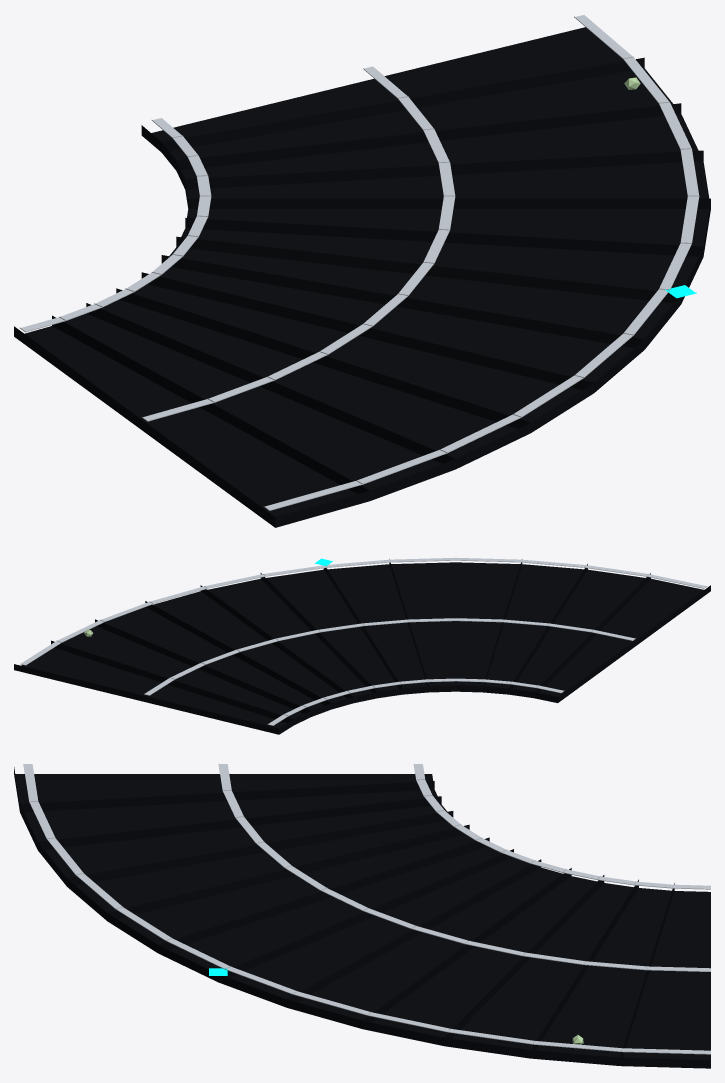
The model's file is tt_trk_corner.glb.
The picture shows the model from 3 angles, top to bottom: view 1: azimuth 30°, elevation 25°; view 2: azimuth 150°, elevation 25°; view 3: azimuth 270°, elevation 25°; orthographic projection. The views are drawn at different scales.
Parts seen in each view (by area): view 1: Track_Bed, Lane_Paint; view 2: Track_Bed, Lane_Paint; view 3: Track_Bed, Lane_Paint.
Boxes of the visible parts, x1,y1,x2,y2 form: Track_Bed: (14,27,710,527); Lane_Paint: (19,15,699,510); Track_Bed: (14,559,710,734); Lane_Paint: (20,557,707,725); Track_Bed: (14,767,710,1068); Lane_Paint: (23,764,710,1054).
Size of what is drawn, in the model's own units: 3 by 0.0715 by 3.
Materials: 4 (2 with a texture image).
